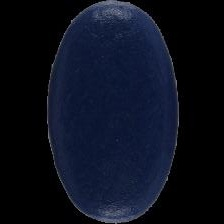0046-1101: (0, 0, 224, 224)
